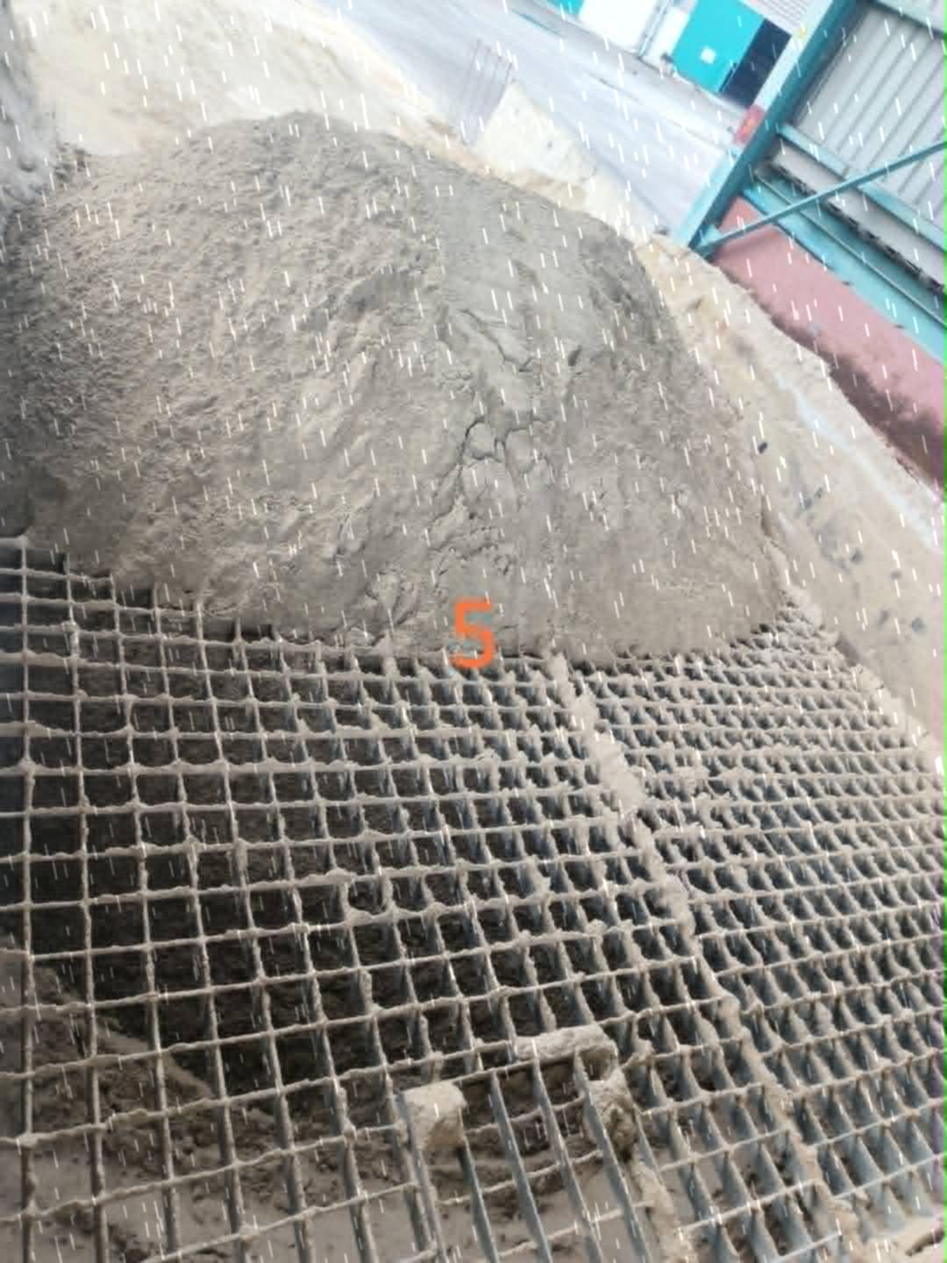sand: (0, 114, 773, 656), (9, 0, 437, 153), (0, 0, 55, 235)
